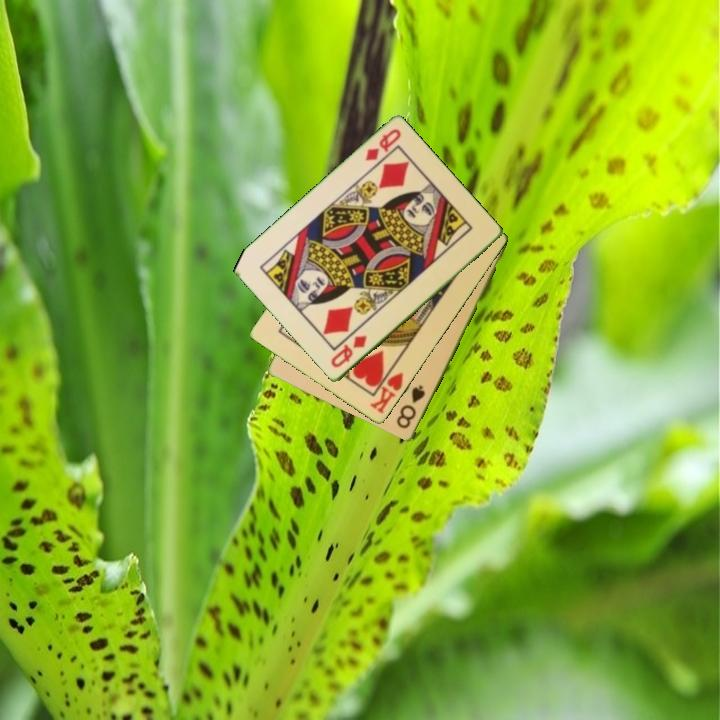8s: (393, 382, 428, 432)
Kh: (366, 361, 406, 417)
Qd: (327, 332, 370, 371), (362, 126, 404, 165)
